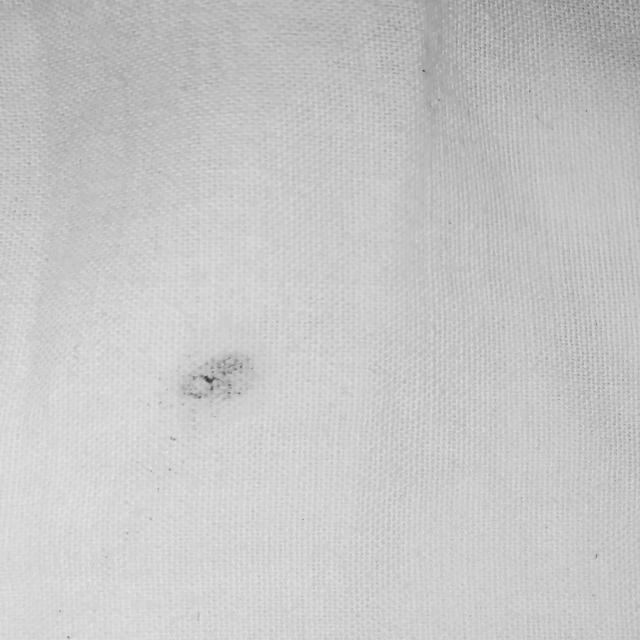stain: (174, 348, 262, 413)
